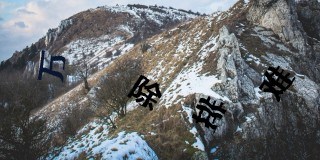万: (36, 50, 66, 81)
排: (192, 95, 227, 131)
除: (127, 75, 162, 111)
难: (258, 64, 295, 102)
